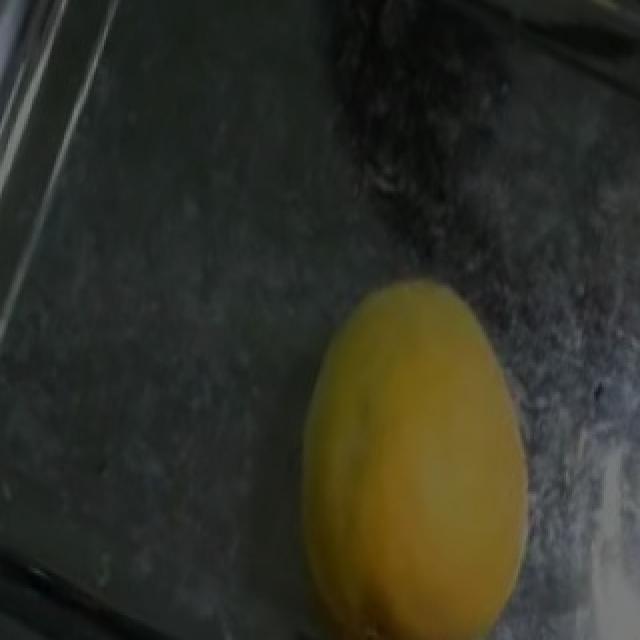fruit: (282, 238, 592, 630)
